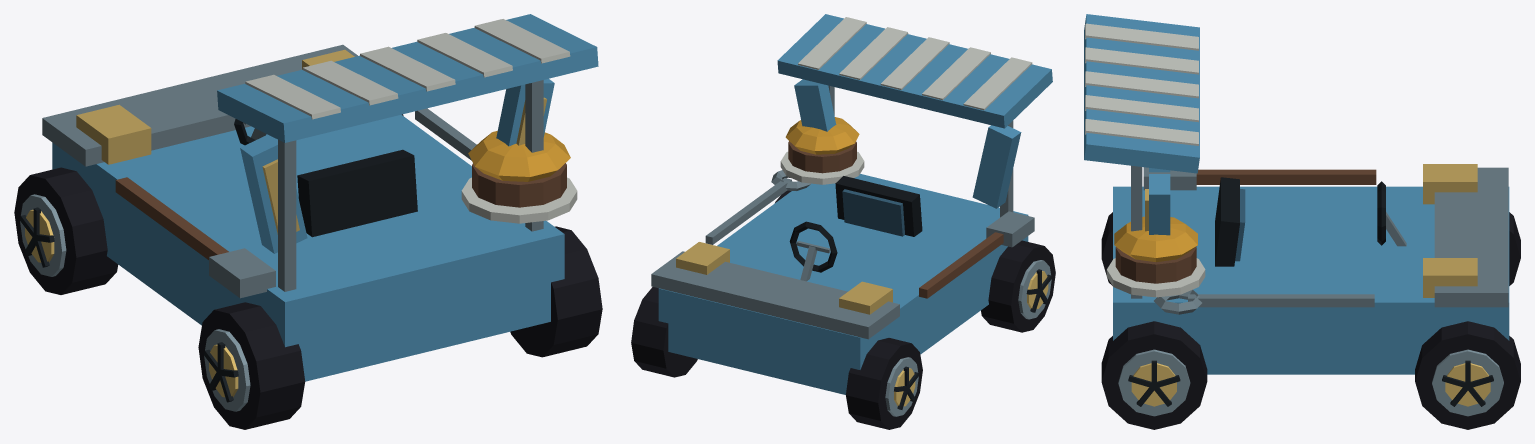
File: kart.glb
The picture shows the model from 3 angles, left to right: view 1: azimuth 30°, elevation 25°; view 2: azimuth 150°, elevation 25°; view 3: azimuth 270°, elevation 25°; orthographic projection. The views are drawn at different scales.
Parts seen in each view (by area): view 1: identity-food-cart-food-cart-counter-and-awning, wheel-rear-left, wheel-front-left, identity-food-cart-motif-food, identity-food-cart-driver-cockpit, identity-food-cart-motif-tools, wheel-rear-right, identity-food-cart-motif-ears; view 2: identity-food-cart-food-cart-counter-and-awning, wheel-front-left, identity-food-cart-driver-cockpit, wheel-rear-left, identity-food-cart-motif-ears, identity-food-cart-motif-food, identity-food-cart-motif-tools, wheel-front-right; view 3: identity-food-cart-food-cart-counter-and-awning, wheel-rear-right, wheel-front-right, identity-food-cart-motif-tools, identity-food-cart-motif-food, identity-food-cart-driver-cockpit, identity-food-cart-motif-ears, wheel-front-left, wheel-rear-left.
Part boxes in pixels (bbox=[...]): identity-food-cart-food-cart-counter-and-awning: bbox=[42, 14, 598, 381]; wheel-rear-left: bbox=[198, 302, 305, 429]; wheel-front-left: bbox=[14, 167, 118, 294]; identity-food-cart-motif-food: bbox=[461, 131, 577, 223]; identity-food-cart-driver-cockpit: bbox=[234, 119, 417, 237]; identity-food-cart-motif-tools: bbox=[115, 108, 476, 298]; wheel-rear-right: bbox=[510, 226, 602, 357]; identity-food-cart-motif-ears: bbox=[240, 78, 554, 253]; identity-food-cart-food-cart-counter-and-awning: bbox=[651, 14, 1052, 394]; wheel-front-left: bbox=[846, 338, 922, 429]; identity-food-cart-driver-cockpit: bbox=[789, 176, 922, 281]; wheel-rear-left: bbox=[981, 240, 1055, 332]; identity-food-cart-motif-ears: bbox=[794, 79, 1021, 208]; identity-food-cart-motif-food: bbox=[780, 117, 864, 184]; identity-food-cart-motif-tools: bbox=[705, 170, 1034, 298]; wheel-front-right: bbox=[631, 287, 697, 377]; identity-food-cart-food-cart-counter-and-awning: bbox=[1084, 14, 1509, 374]; wheel-rear-right: bbox=[1101, 321, 1207, 429]; wheel-front-right: bbox=[1415, 321, 1520, 429]; identity-food-cart-motif-tools: bbox=[1143, 167, 1376, 314]; identity-food-cart-motif-food: bbox=[1106, 216, 1205, 297]; identity-food-cart-driver-cockpit: bbox=[1215, 177, 1406, 266]; identity-food-cart-motif-ears: bbox=[1145, 168, 1170, 235]; wheel-front-left: bbox=[1509, 212, 1520, 285]; wheel-rear-left: bbox=[1101, 212, 1112, 285].
Size of the model in its own units: 2.03 by 1.76 by 2.48.
